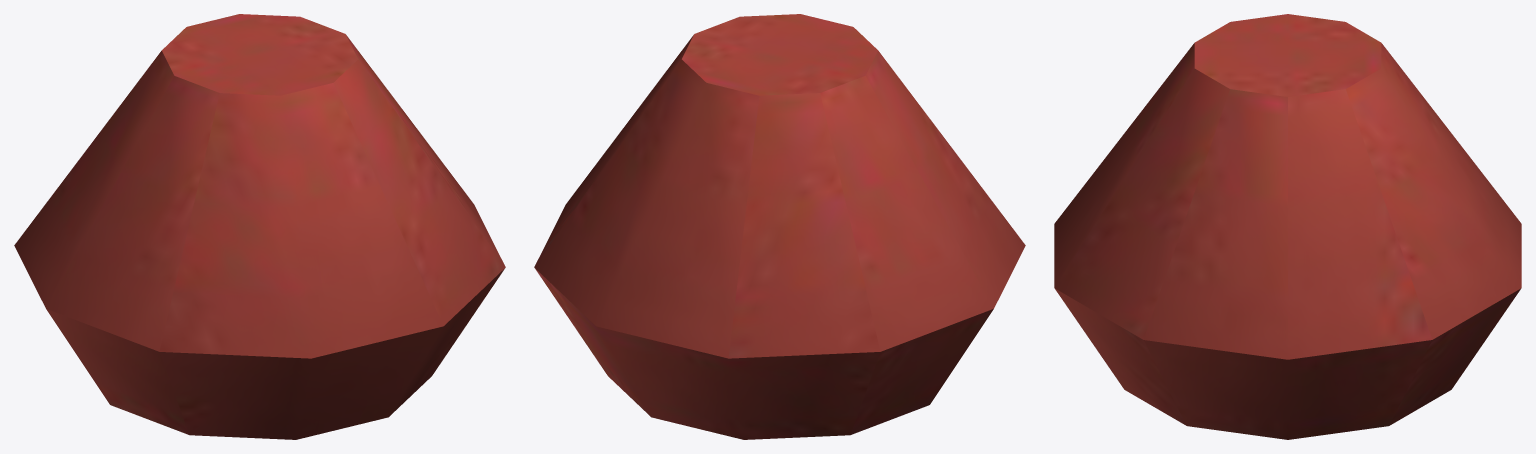
Rendered from yumako-seed.glb.
3 renders of one model, left to right at view 1: azimuth 30°, elevation 25°; view 2: azimuth 150°, elevation 25°; view 3: azimuth 270°, elevation 25°, orthographic.
Parts seen in each view (by area): view 1: yumako-seed; view 2: yumako-seed; view 3: yumako-seed.
Boxes of the visible parts, x1,y1,x2,y2 form: yumako-seed: (14, 14, 505, 439); yumako-seed: (534, 14, 1025, 439); yumako-seed: (1054, 14, 1521, 439).
Size of the model in its own units: 0.1 by 0.07 by 0.0951.
1 material, 1 textured.
